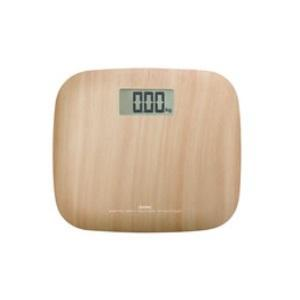LCD: (118, 88, 175, 114)
